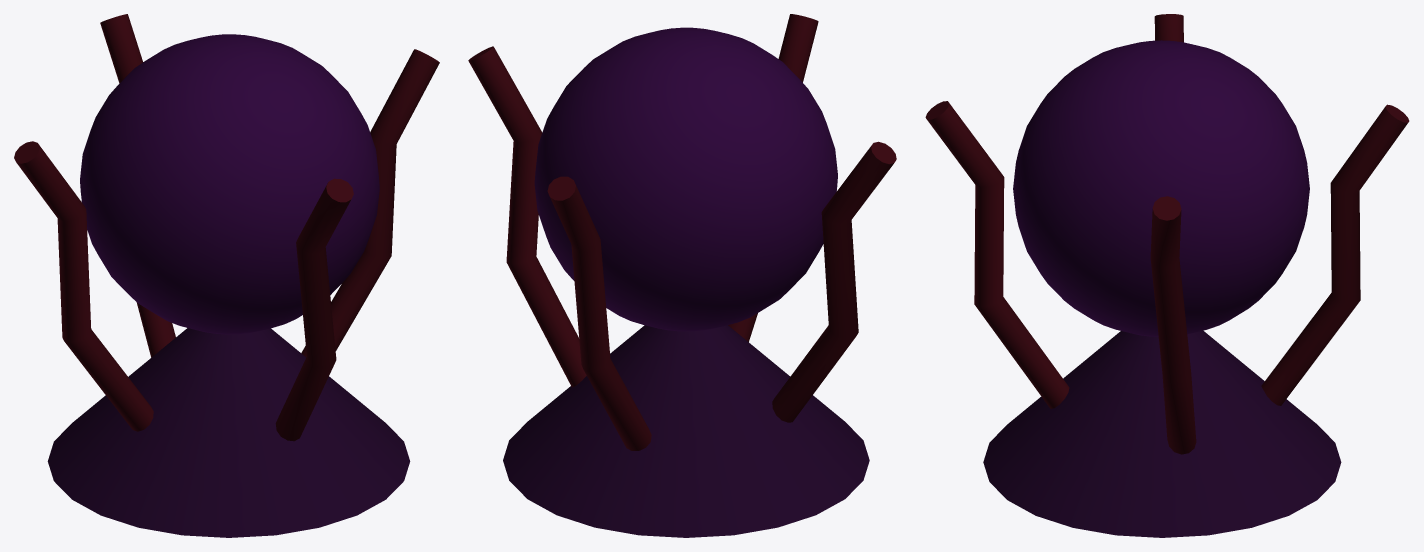
Rendered from bumper.FBX.
3 renders of one model, left to right at view 1: azimuth 30°, elevation 25°; view 2: azimuth 150°, elevation 25°; view 3: azimuth 270°, elevation 25°, orthographic. The views are drawn at different scales.
Parts seen in each view (by area): view 1: Sphere001; view 2: Sphere001; view 3: Sphere001.
Boxes of the visible parts, x1=… form: Sphere001: x1=14, y1=14, x2=439, y2=537; Sphere001: x1=468, y1=14, x2=896, y2=537; Sphere001: x1=925, y1=14, x2=1409, y2=537.
Size of the model in its own units: 49.83 by 46.84 by 50.32.
